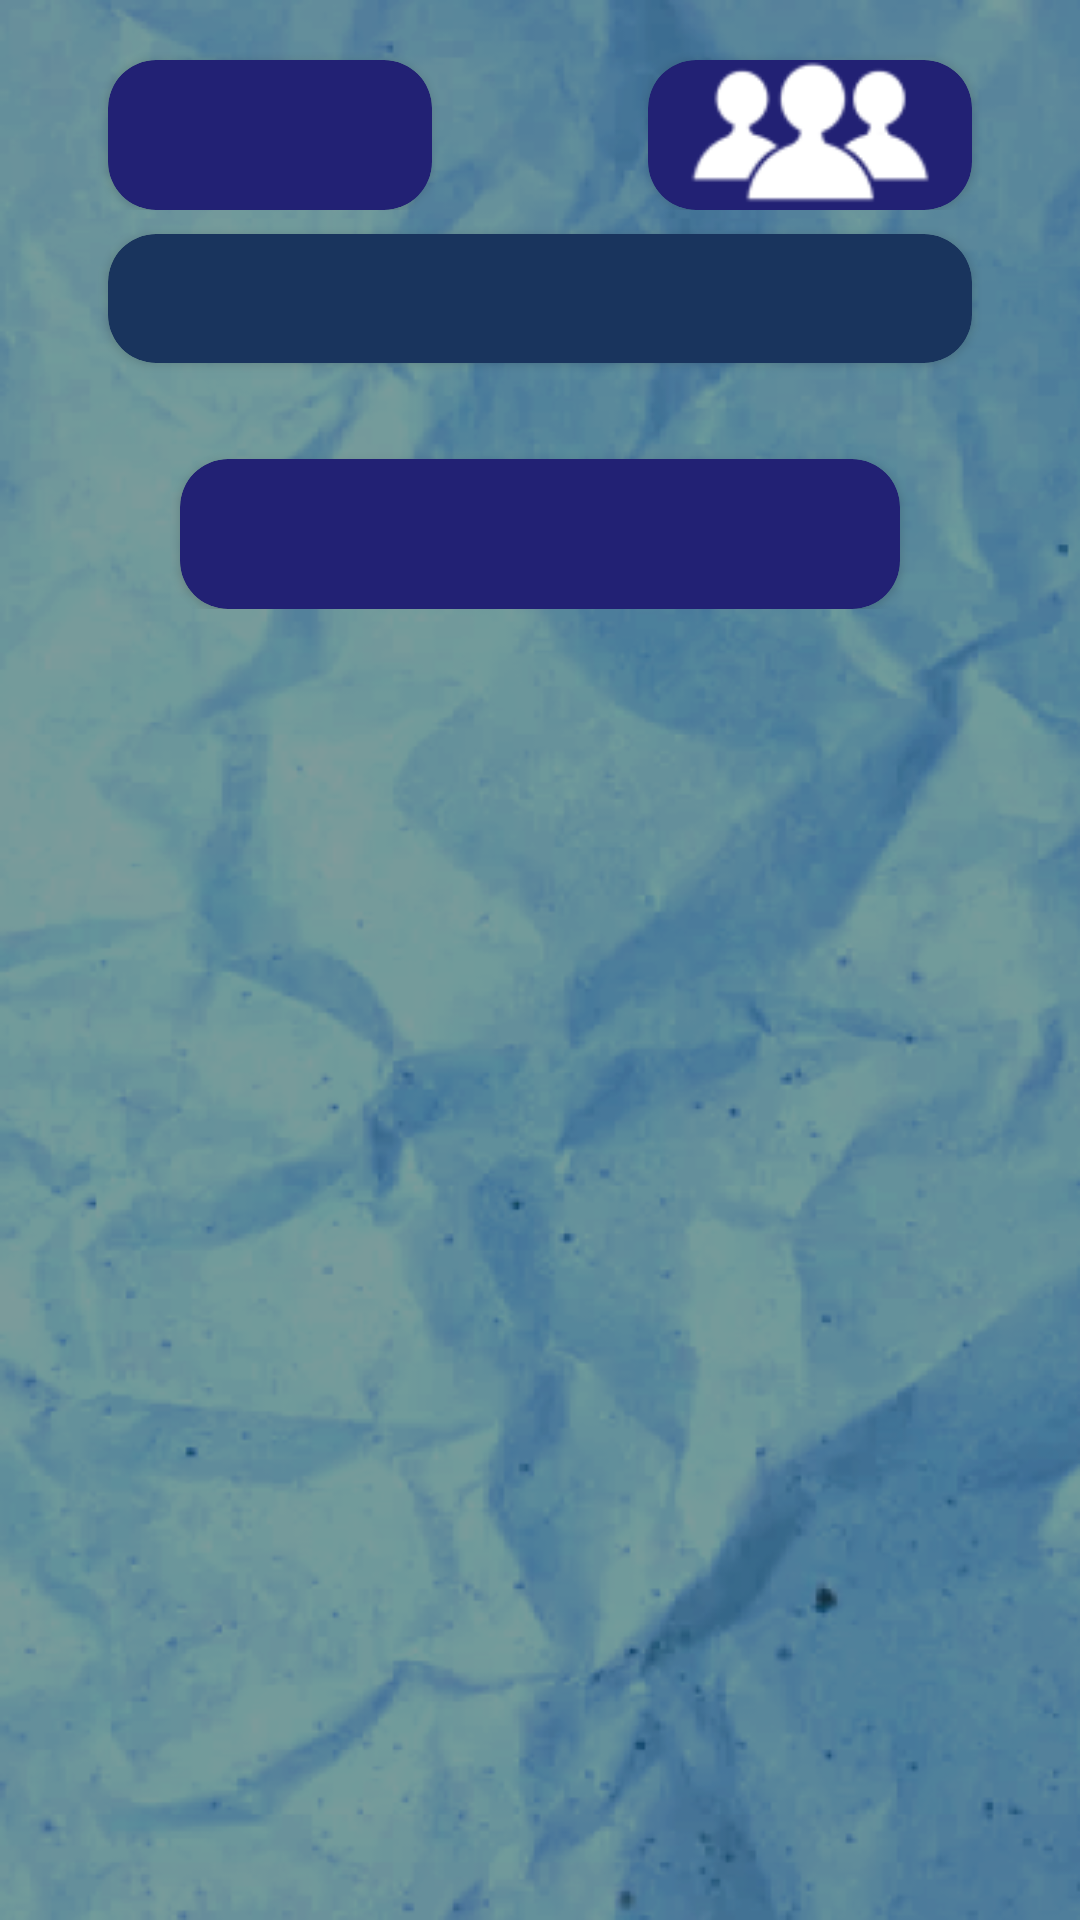

Named icons in this screenshot (1080 × 1920) and their centers, [x,y]:
members: [810,135]
